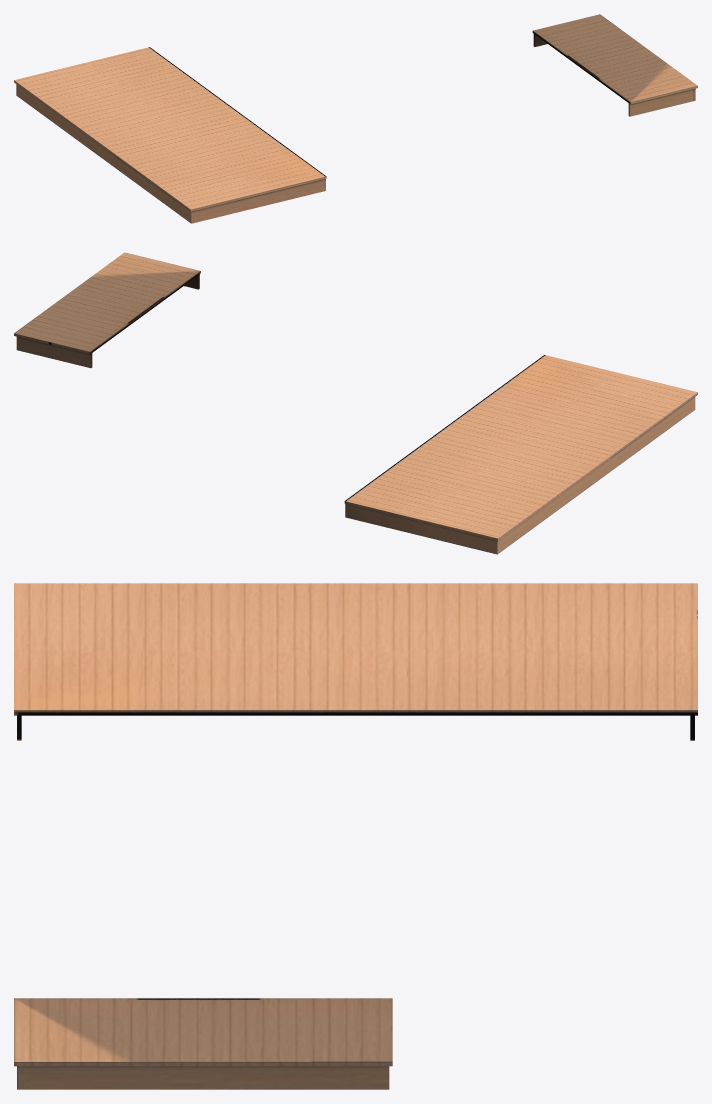
File: Deck.glb
3 renders of one model, top to bottom at view 1: azimuth 30°, elevation 25°; view 2: azimuth 150°, elevation 25°; view 3: azimuth 270°, elevation 25°, orthographic. The views are drawn at different scales.
Parts seen in each view (by area): view 1: Deck; view 2: Deck; view 3: Deck.
Boxes of the visible parts, box(x1,y1,x2,y2) form: Deck: box(14, 14, 697, 223); Deck: box(14, 252, 697, 554); Deck: box(14, 583, 697, 1089).
Bounding box in the file's own units: 3.61 × 0.1025 × 2.18.
2 materials, 2 textured.
